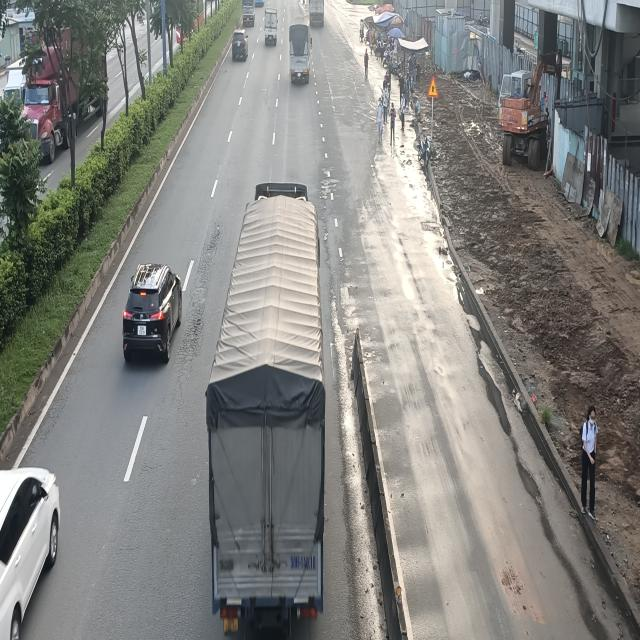car: (0, 466, 59, 639), (122, 262, 184, 362), (232, 29, 249, 62)
truck: (208, 184, 330, 637), (288, 13, 311, 84), (264, 7, 279, 48)
